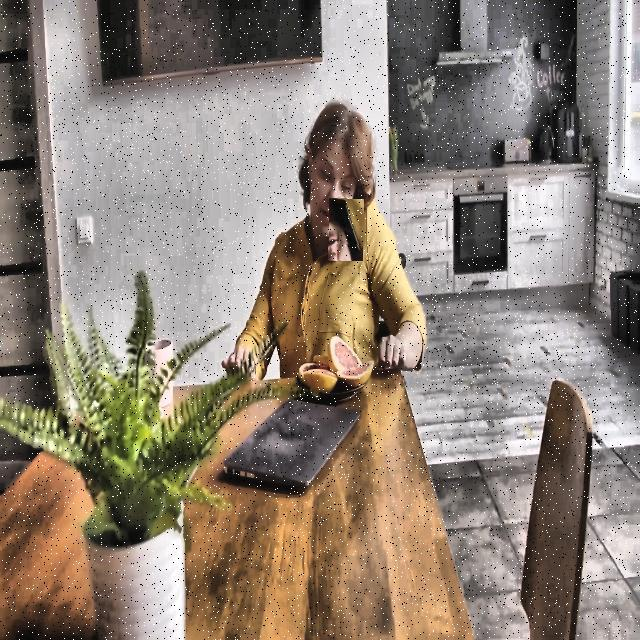Phone: (328, 198, 364, 262)
